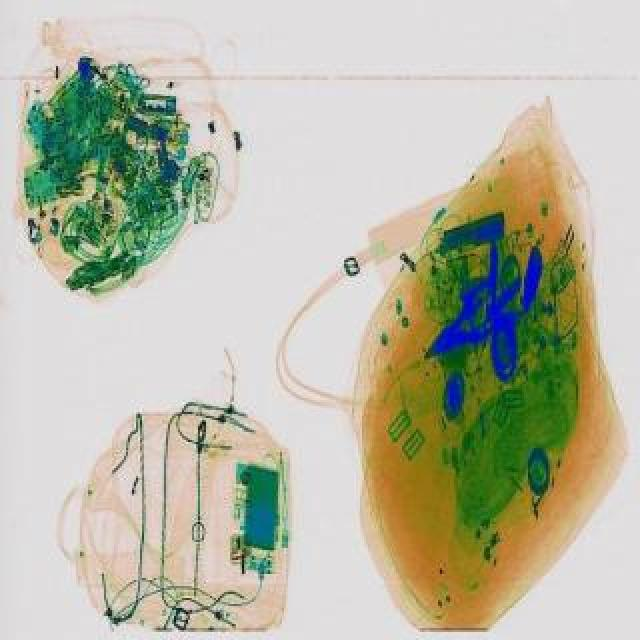wrench: (406, 276, 518, 374)
